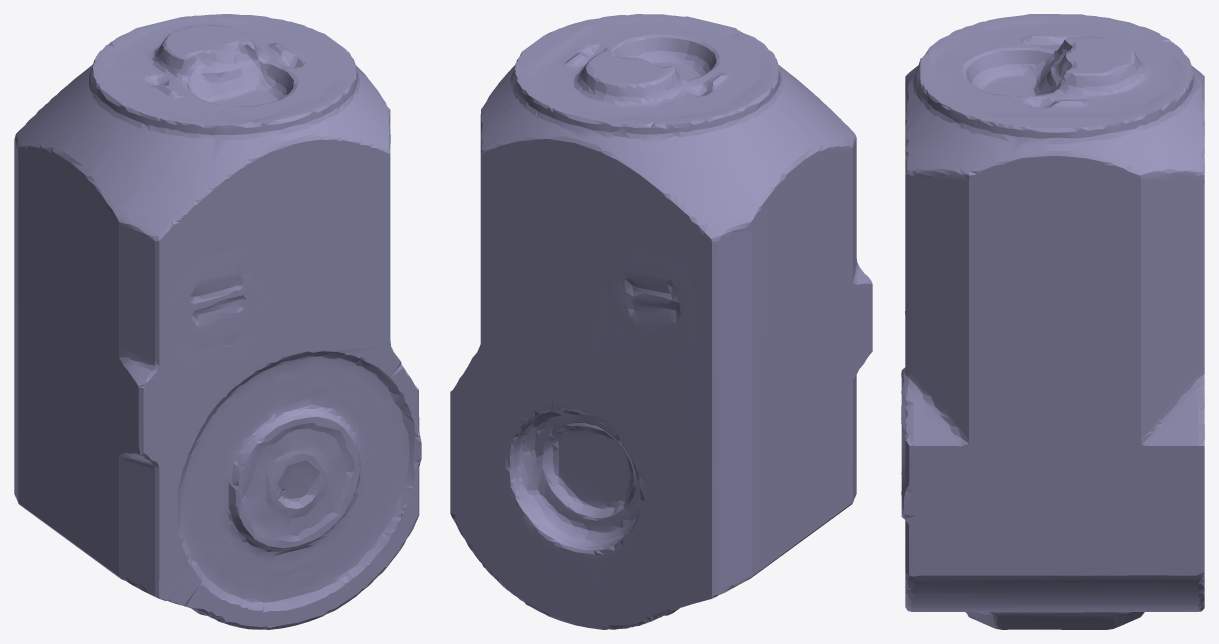
3 renders of one model, left to right at view 1: azimuth 30°, elevation 25°; view 2: azimuth 150°, elevation 25°; view 3: azimuth 270°, elevation 25°, orthographic. The views are drawn at different scales.
Visible parts, largest first — view 1: AsmTailLink_221214_lp; view 2: AsmTailLink_221214_lp; view 3: AsmTailLink_221214_lp.
Part boxes in pixels (left/top/right/bottom): AsmTailLink_221214_lp: left=14, top=14, right=421, bottom=629; AsmTailLink_221214_lp: left=450, top=14, right=872, bottom=629; AsmTailLink_221214_lp: left=901, top=14, right=1204, bottom=629.
Size of the model in its own units: 0.09 by 0.0812 by 0.1623.
